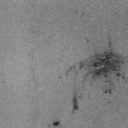iron sheet ash: (78, 30, 126, 80), (66, 66, 74, 77), (104, 80, 112, 86), (74, 98, 78, 110), (105, 88, 112, 94), (52, 122, 60, 126)
